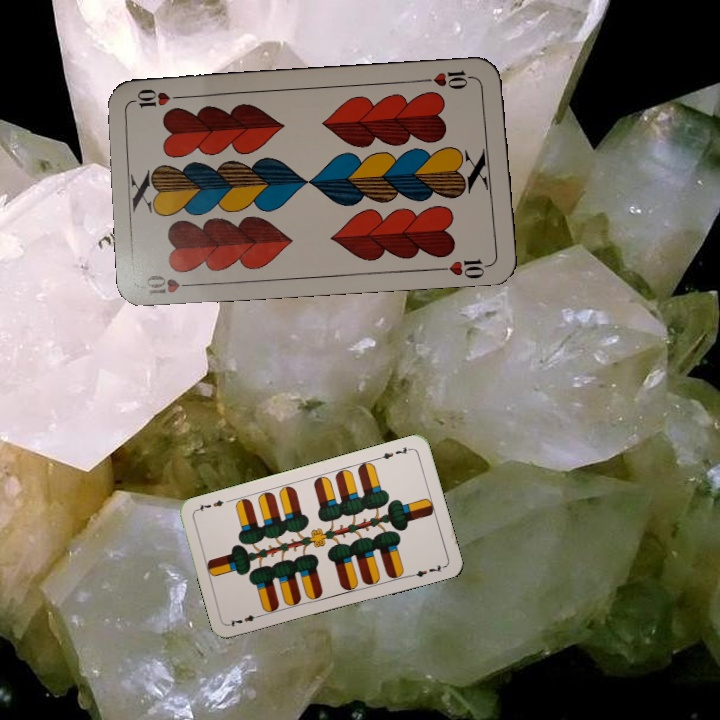E7: (374, 443, 414, 462), (225, 610, 265, 629)
H10: (141, 270, 201, 298), (419, 67, 479, 92)
